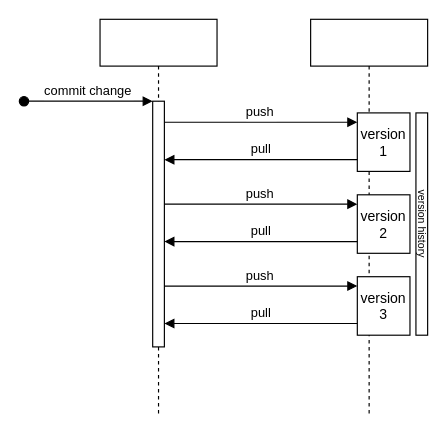
Image size: 447x436. Some labels were removed from this diagram. Each missing label, with the box of its shape:
local repository: (99, 18, 217, 417)
Remote repository: (309, 18, 428, 417)
